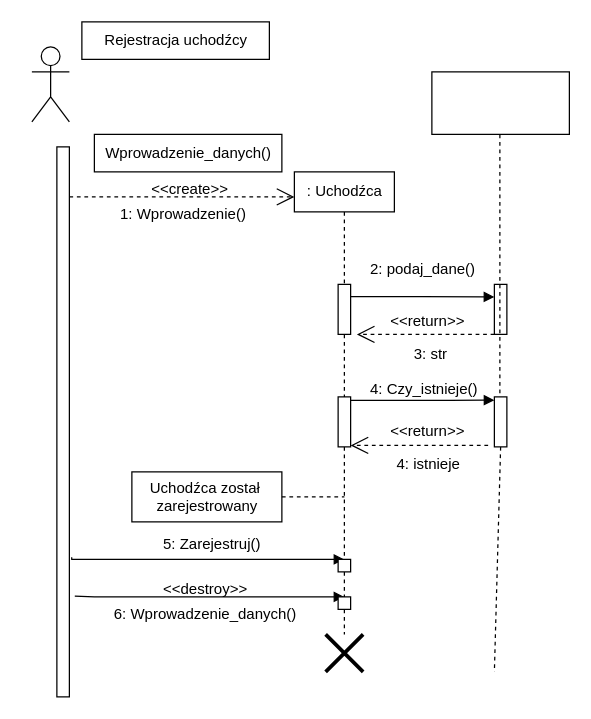
Some shapes in this 591 by 719 pixel diagram are drawn without their labels. Here are the shapes that lost their labels. From the top down, the centre of each, then its label:
At pixel 50 84: "Urzędnik".
At pixel 500 102: ": Osoba".
